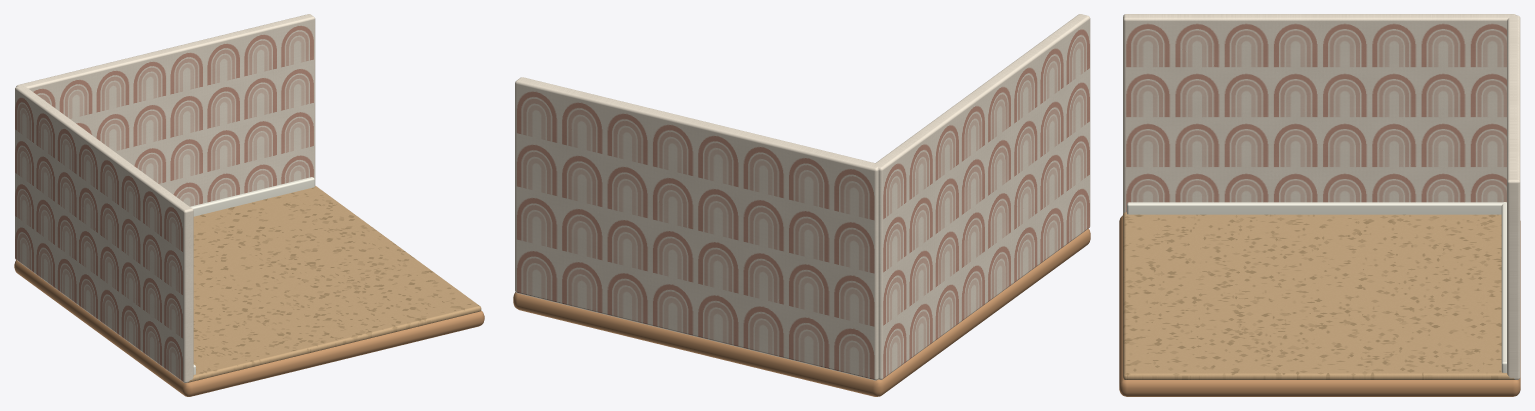
Rendered from room28.glb.
3 views of the same model, side by side, from view 1: azimuth 30°, elevation 25°; view 2: azimuth 150°, elevation 25°; view 3: azimuth 270°, elevation 25° (orthographic). The views are drawn at different scales.
Visible parts, largest first — view 1: Back wall, Cream floor, Left wall, Rounded room foundation, Back skirting; view 2: Back wall, Left wall, Rounded room foundation; view 3: Left wall, Cream floor, Rounded room foundation, Back wall, Left skirting, Back skirting.
Boxes of the visible parts, x1,y1,x2,y2 form: Back wall: (16, 14, 315, 206); Cream floor: (188, 185, 481, 382); Left wall: (15, 85, 193, 382); Rounded room foundation: (14, 260, 484, 396); Back skirting: (190, 177, 314, 216); Back wall: (515, 77, 879, 380); Left wall: (874, 14, 1090, 379); Rounded room foundation: (513, 229, 1090, 396); Left wall: (1123, 14, 1515, 213); Cream floor: (1123, 212, 1514, 379); Rounded room foundation: (1119, 215, 1520, 396); Back wall: (1507, 15, 1520, 379); Left skirting: (1127, 202, 1506, 214); Back skirting: (1501, 202, 1506, 372).
Bounding box in the file's own units: 5.1 × 3.04 × 5.1.
Materials: 4 (2 with a texture image).
